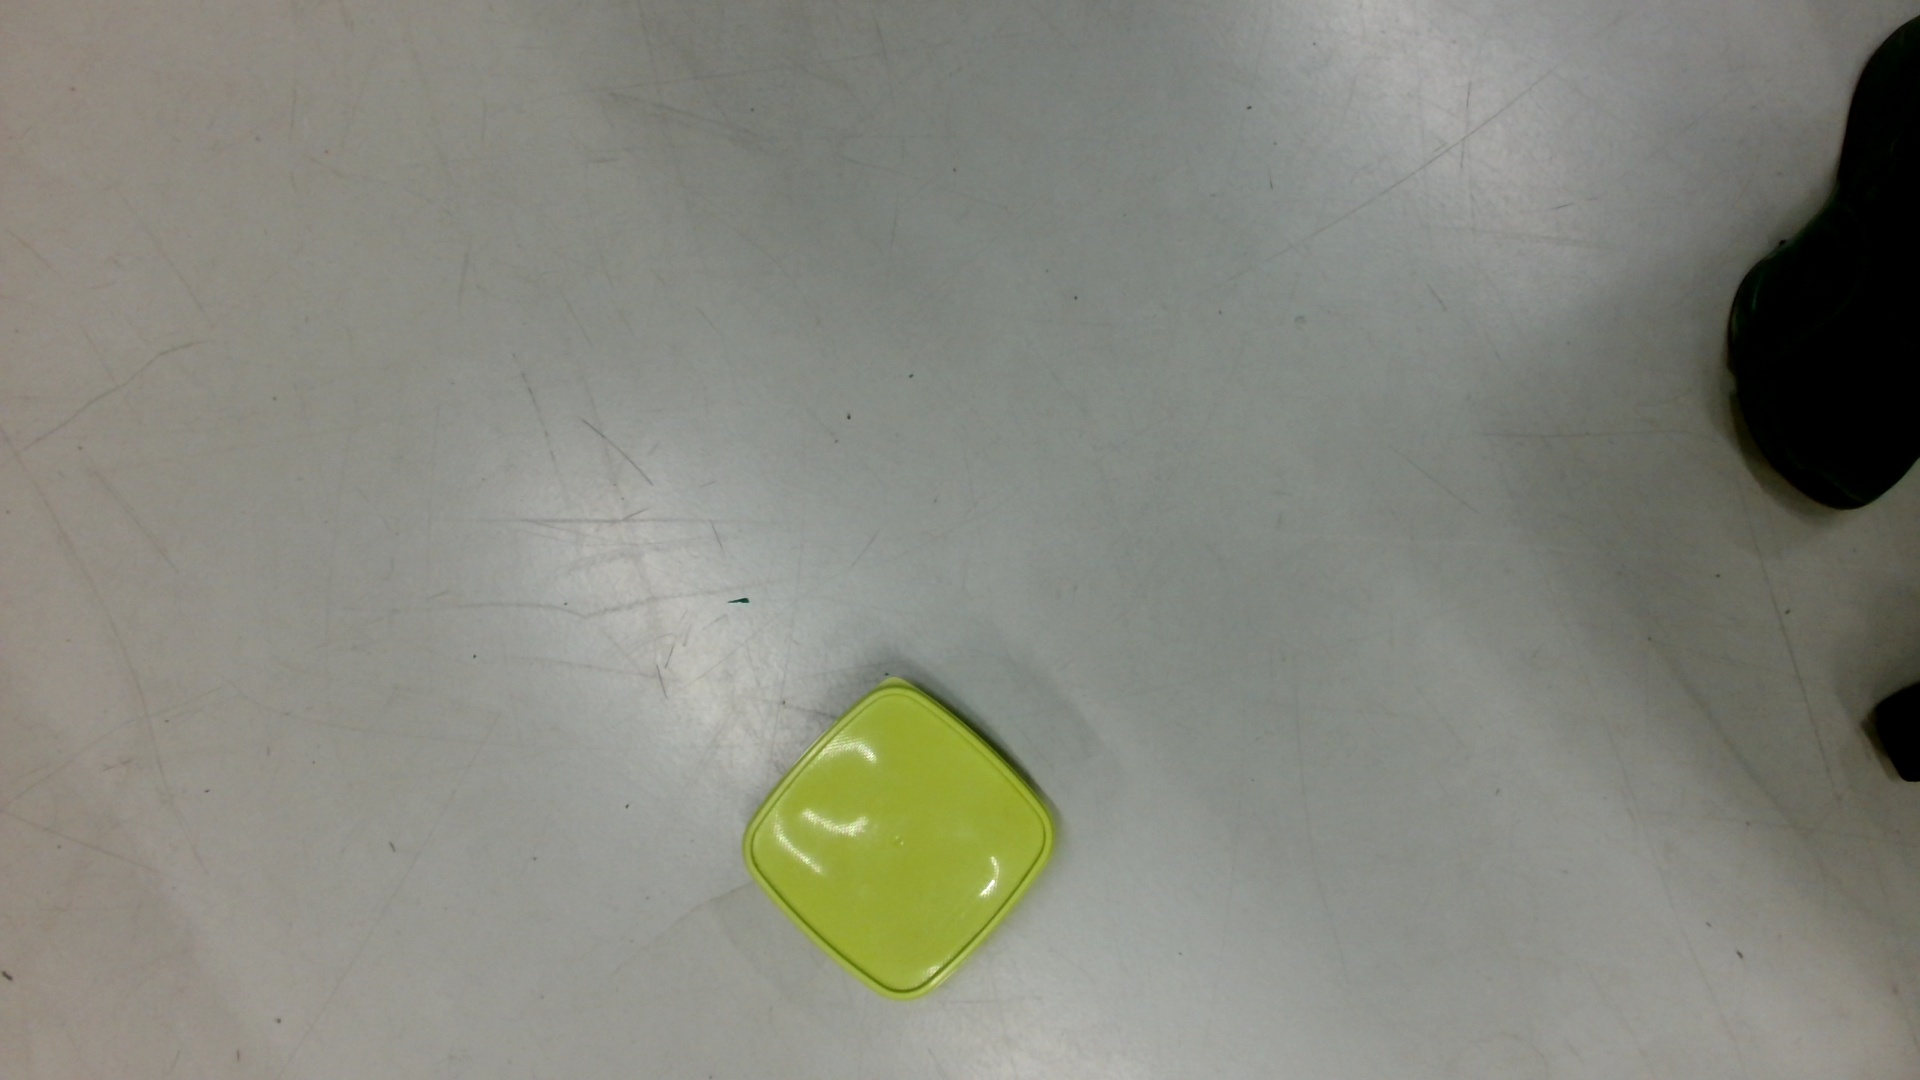Box: (738, 670, 1059, 1009)
